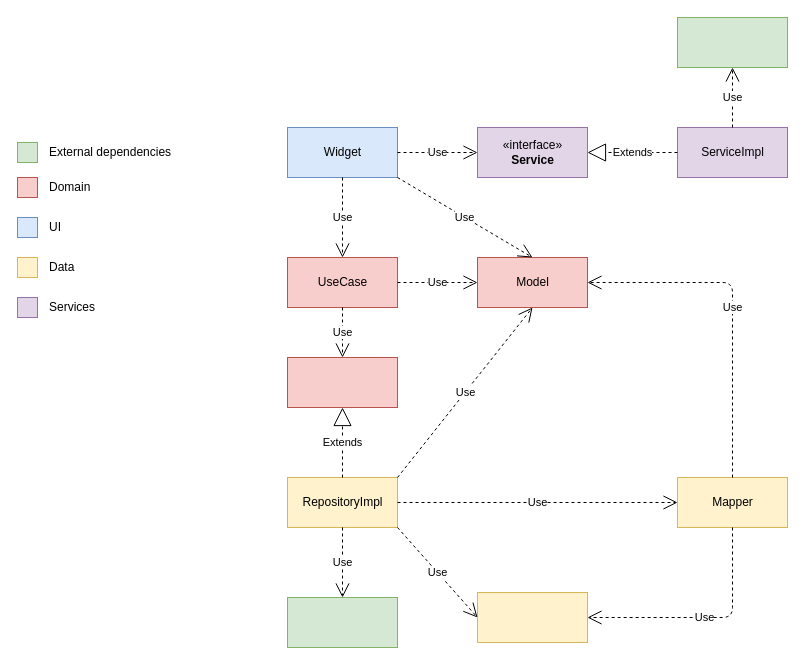
This 805x665 diagram has some shape labels left out. Here are the shapes that lost their labels. From the top down, the box of each, then its label:
(676, 16, 788, 68): service dependency
(286, 356, 398, 408): «interface» Repository
(286, 596, 398, 648): database dependency
(476, 592, 588, 642): Schema
